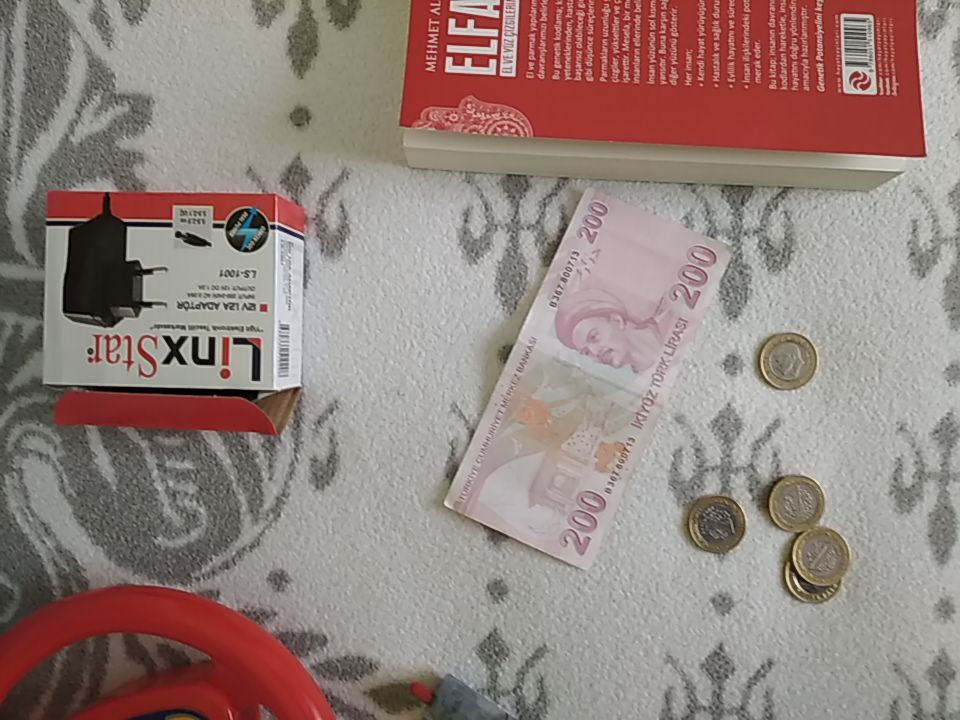200TL: (442, 185, 734, 572)
